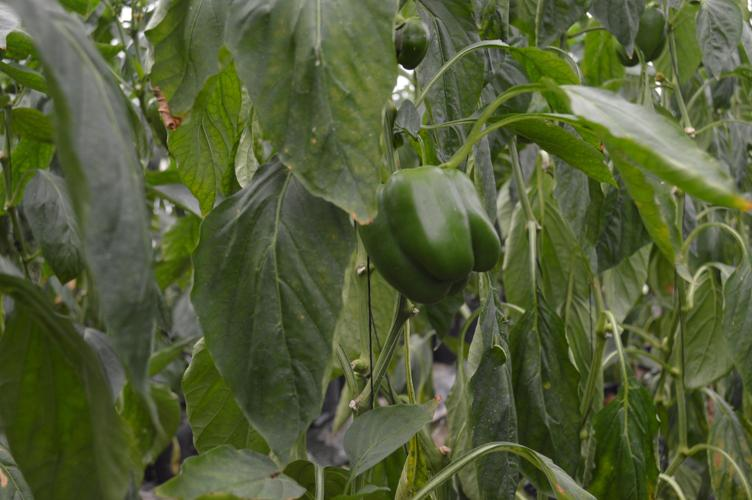BellPepper: (354, 171, 496, 313), (605, 8, 673, 76), (388, 16, 435, 63)
